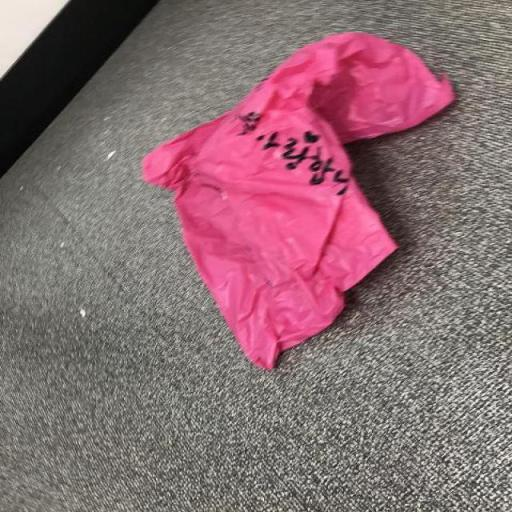plastic-bag: (134, 27, 460, 365)
